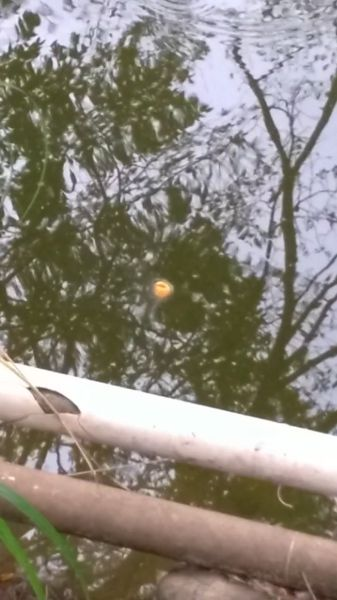eggs: (150, 277, 177, 298)
